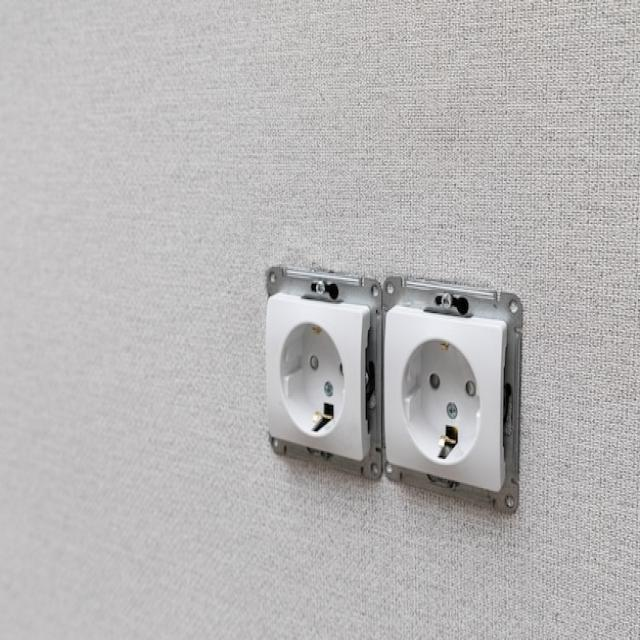typeb: (385, 298, 502, 491), (264, 280, 368, 484)
